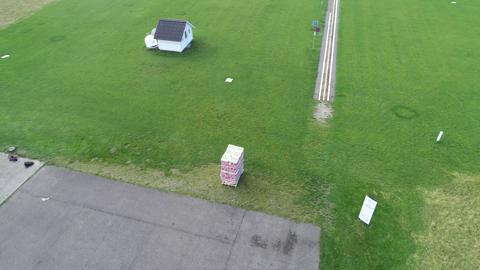RockwoolPallet: (220, 144, 246, 187)
